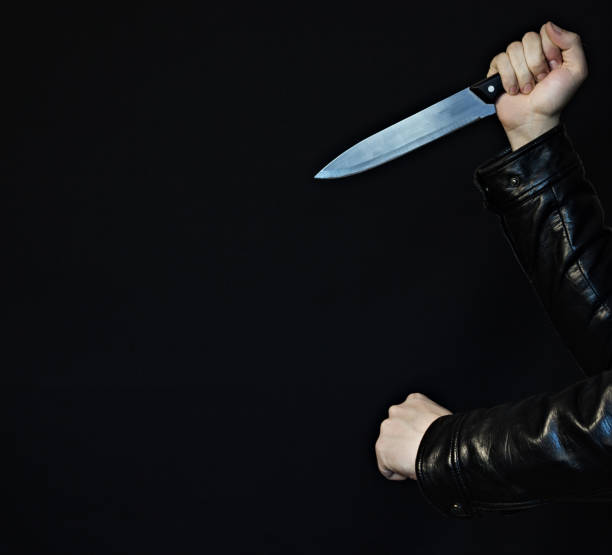knife: (308, 71, 507, 184)
